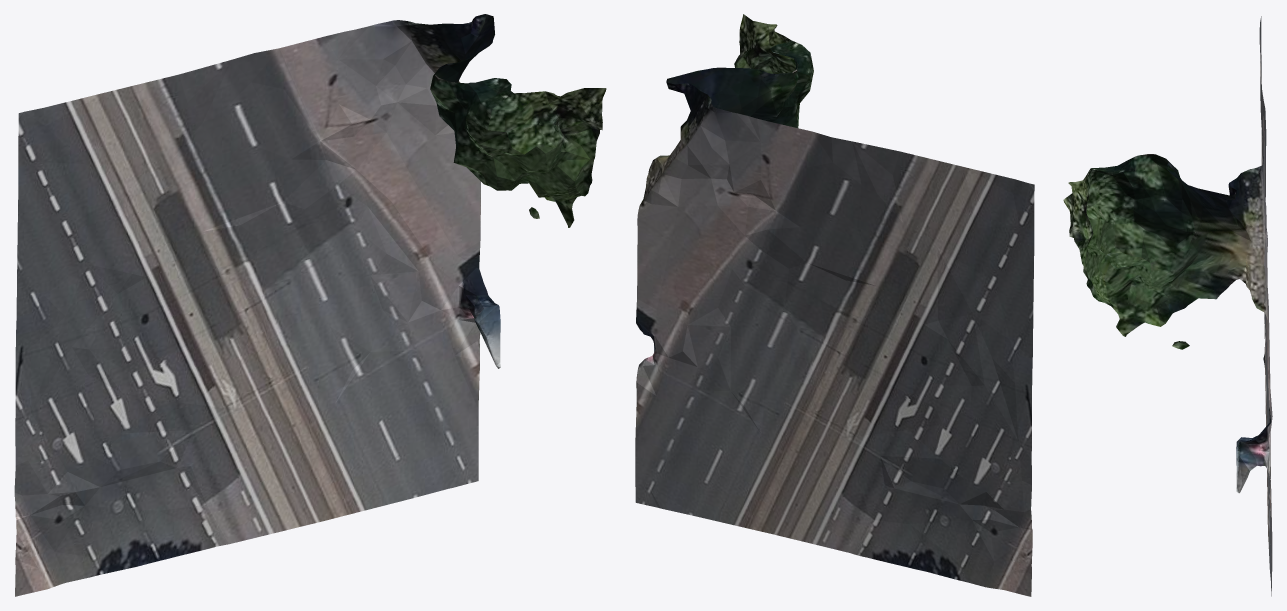
The model's file is Tile_+032_+022_L20_0002230.obj.
The picture shows the model from 3 angles, left to right: view 1: azimuth 30°, elevation 25°; view 2: azimuth 150°, elevation 25°; view 3: azimuth 270°, elevation 25°; orthographic projection. The views are drawn at different scales.
Size of the model in its own units: 31.5 by 31.38 by 14.98.
Materials: 1 (1 with a texture image).
